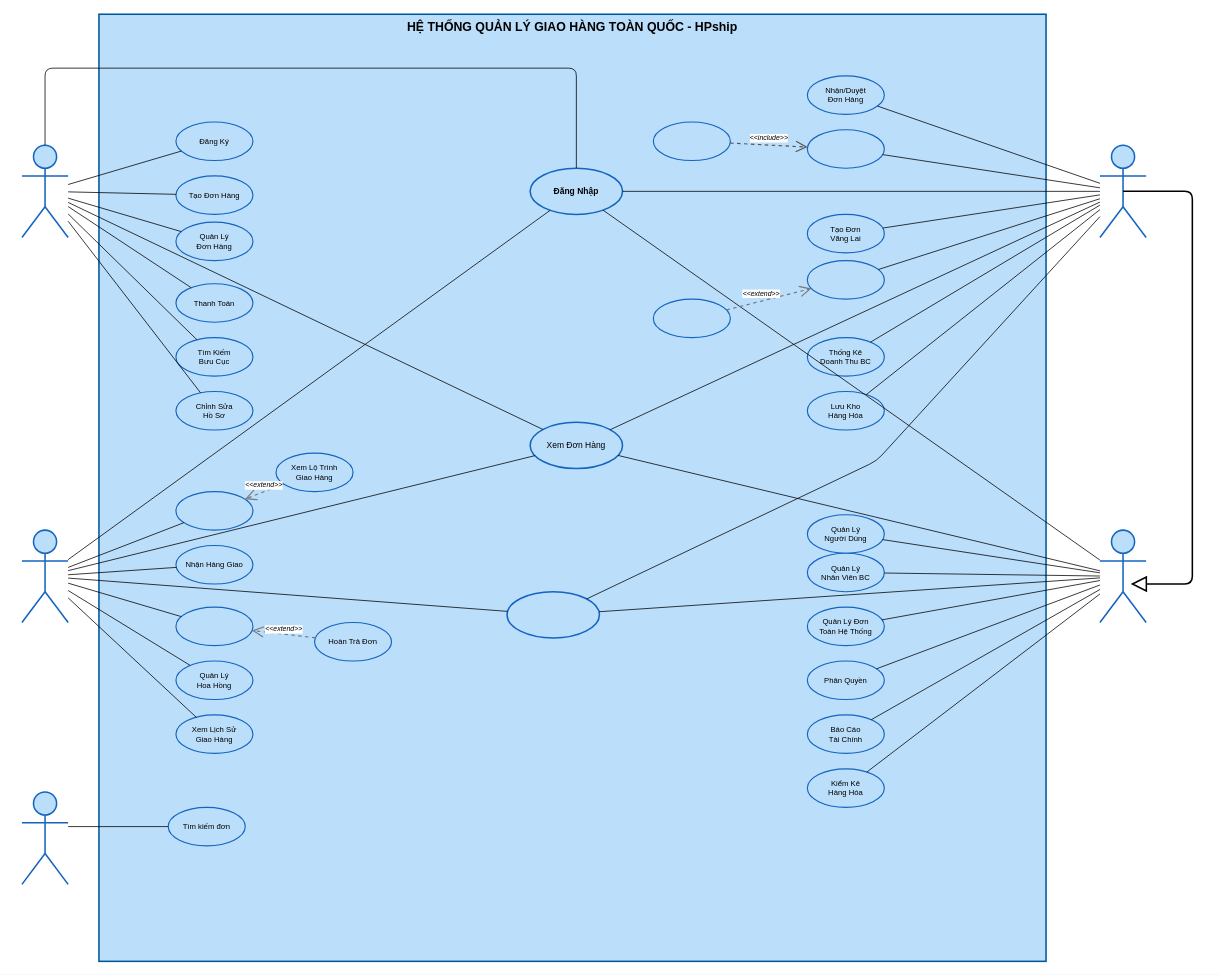
Image size: 1220x975. Some labels were removed from this diagram. The shapes that lost their labels are listed below. From the top down, each one's centre as x and y in pixels, then its label:
pixel 691 141: Phân Công Giao Hàng
pixel 845 148: Phân Loại Đơn Hàng
pixel 45 191: NGUOIGUI
pixel 1123 191: NVBUUCUC
pixel 845 279: Quản Lý Nhân Viên GH
pixel 691 318: Quản Lý Hoa Hồng Shipper
pixel 214 510: Xem Đơn Được Phân Công
pixel 45 576: NVGIAOHANG
pixel 1123 576: ADMIN
pixel 214 626: Cập Nhật Trạng Thái Giao
pixel 553 614: Đăng Xuất
pixel 45 838: NGUOINHAN
